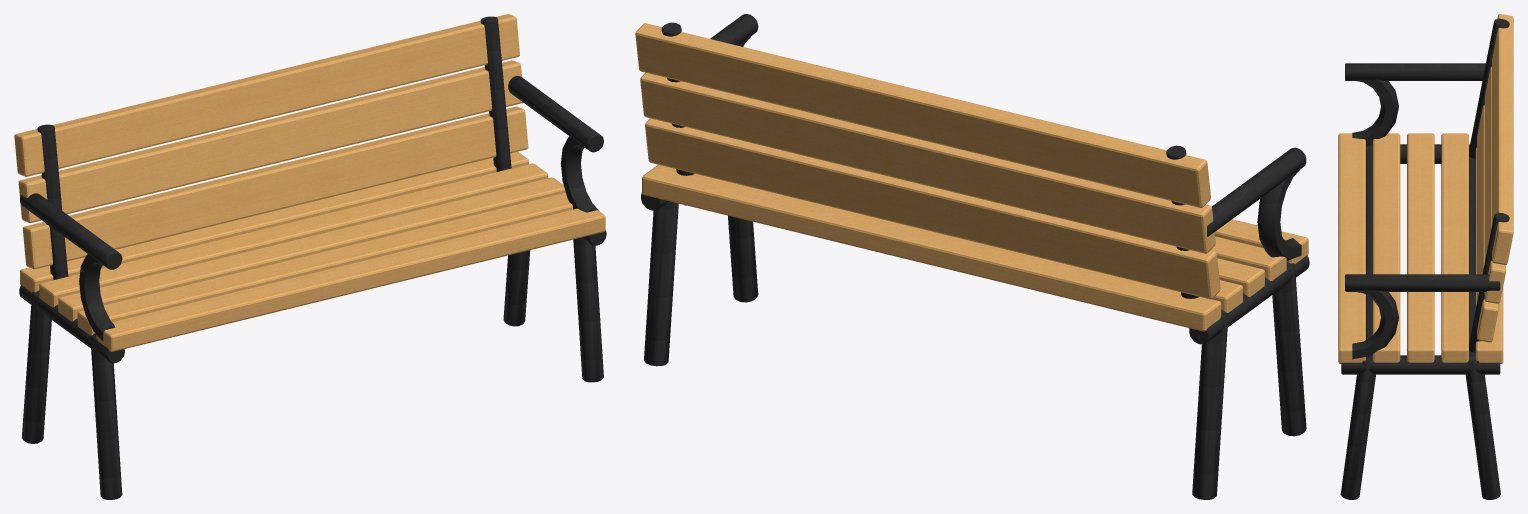
The model's file is studio-guide-bench.glb.
The picture shows the model from 3 angles, left to right: view 1: azimuth 30°, elevation 25°; view 2: azimuth 150°, elevation 25°; view 3: azimuth 270°, elevation 25°; orthographic projection. The views are drawn at different scales.
Visible parts, largest first — view 1: back_slats, seat_slats, frame_front_legs, frame_rear_legs, frame_arm_tops, frame_back_uprights, frame_arm_curves, frame_side_rails; view 2: back_slats, seat_slats, frame_rear_legs, frame_front_legs, frame_arm_tops, frame_side_rails, frame_arm_curves, frame_back_uprights; view 3: seat_slats, back_slats, frame_arm_tops, frame_arm_curves, frame_front_legs, frame_rear_legs, frame_side_rails, seat_bearers, frame_back_uprights.
Boxes of the visible parts, x1,y1,x2,y2 form: back_slats: (14, 14, 528, 269); seat_slats: (20, 151, 605, 351); frame_front_legs: (90, 237, 603, 499); frame_rear_legs: (21, 250, 530, 443); frame_arm_tops: (20, 76, 603, 269); frame_back_uprights: (37, 16, 511, 279); frame_arm_curves: (79, 131, 598, 340); frame_side_rails: (19, 230, 606, 363); back_slats: (635, 23, 1220, 299); seat_slats: (642, 165, 1308, 331); frame_rear_legs: (644, 201, 1228, 499); frame_front_legs: (728, 215, 1306, 436); frame_arm_tops: (710, 14, 1306, 236); frame_side_rails: (641, 192, 1309, 344); frame_arm_curves: (738, 17, 1301, 260); frame_back_uprights: (661, 22, 1199, 298); seat_slats: (1338, 133, 1503, 363); back_slats: (1477, 14, 1513, 342); frame_arm_tops: (1345, 63, 1500, 291); frame_arm_curves: (1352, 64, 1398, 359); frame_front_legs: (1340, 149, 1375, 499); frame_rear_legs: (1465, 354, 1500, 499); frame_side_rails: (1341, 144, 1500, 374); seat_bearers: (1366, 149, 1475, 355); frame_back_uprights: (1469, 18, 1509, 352).
Bounding box in the file's own units: 1.43 × 0.8363 × 0.4844.
2 materials, 2 textured.
